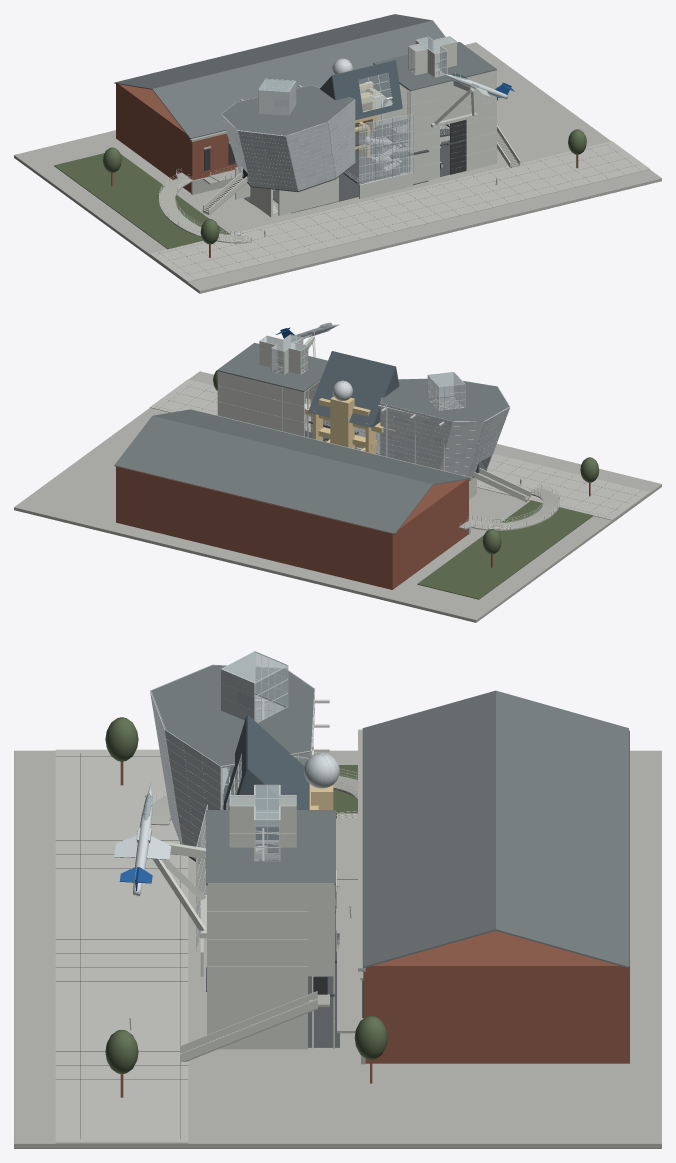
3 views of the same model, one above another, from view 1: azimuth 30°, elevation 25°; view 2: azimuth 150°, elevation 25°; view 3: azimuth 270°, elevation 25° (orthographic). The views are drawn at different scales.
Visible parts, largest first — view 1: 13_Complete_Architecture; view 2: 13_Complete_Architecture; view 3: 13_Complete_Architecture.
Part boxes in pixels (x1,y1,x2,y2): 13_Complete_Architecture: (14,14,661,293); 13_Complete_Architecture: (14,322,661,622); 13_Complete_Architecture: (14,651,661,1148).
Bounding box in the file's own units: 112 × 28.4 × 78.
